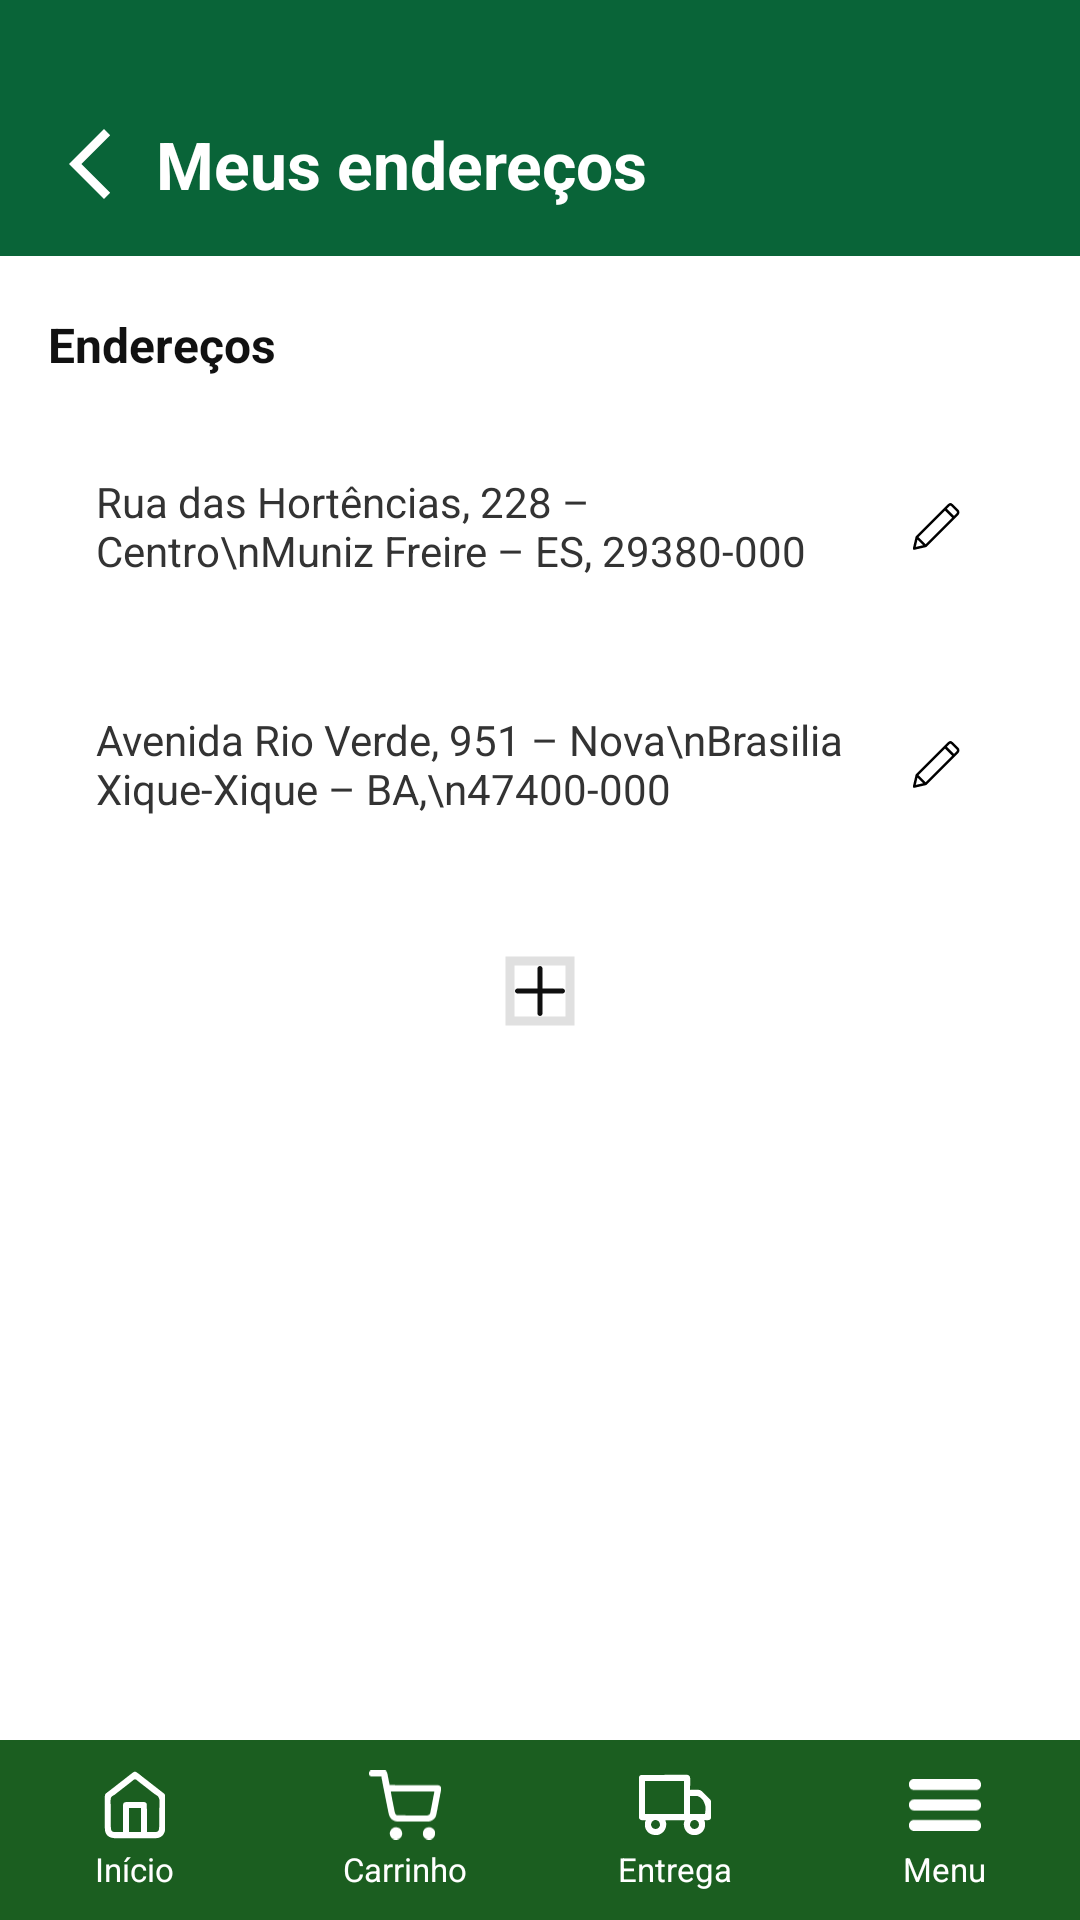

Named icons in this screenshot (1080*1920) and their centers, (x,y):
add: (540,991)
Editar endereço: (936,526), (936,764)
Voltar: (89,164)
